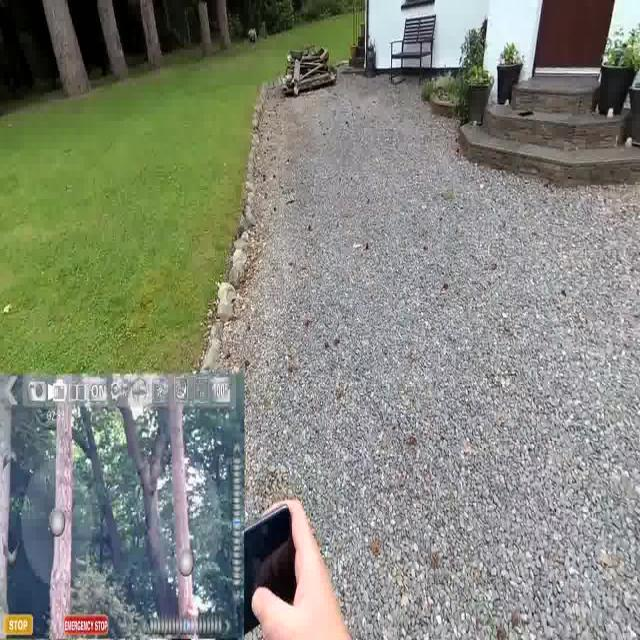drones: (278, 180, 300, 215)
